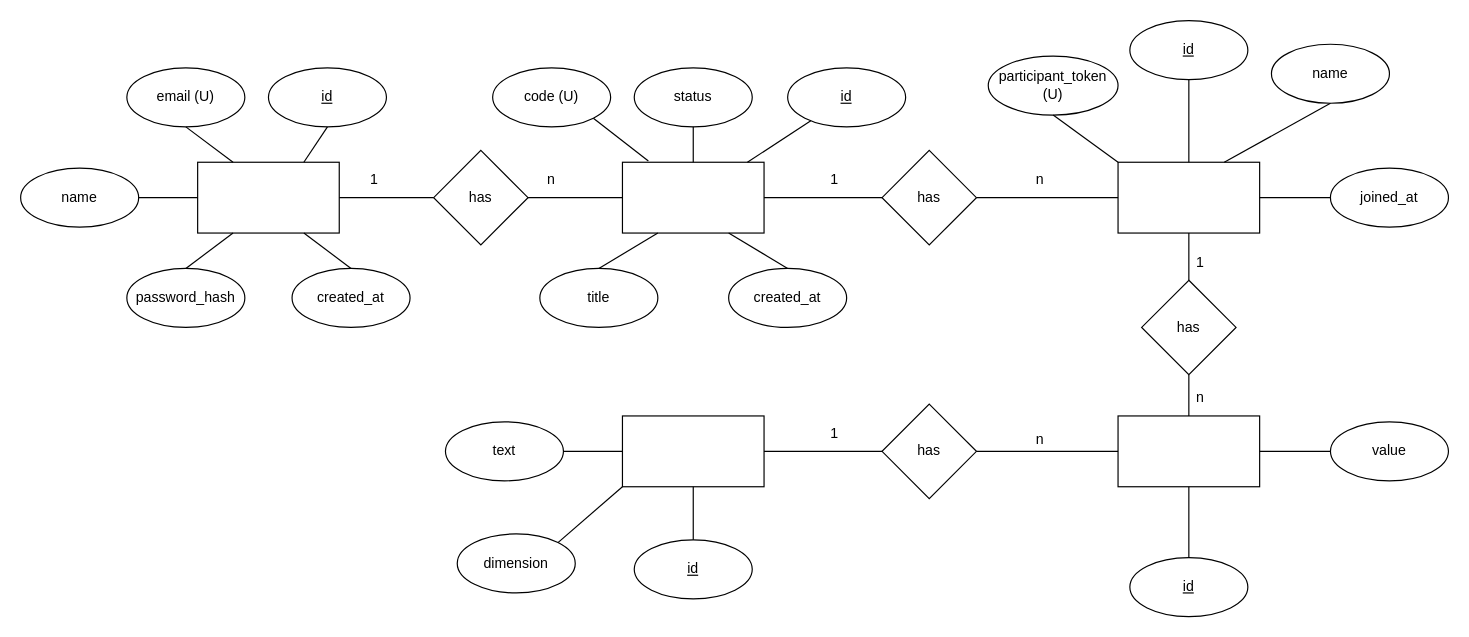
This 1469x637 diagram has some shape labels left out. Each missing label, with the centre of its shape:
"Answer" belongs at [1188,451].
"Host" belongs at [267,197].
"Participant" belongs at [1188,197].
"Question" belongs at [692,451].
"Workskop" belongs at [692,197].
